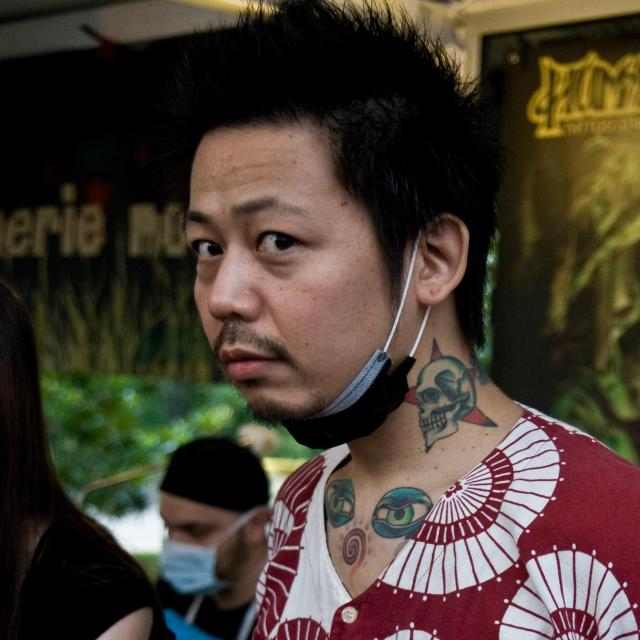no-glass: (195, 234, 303, 263)
